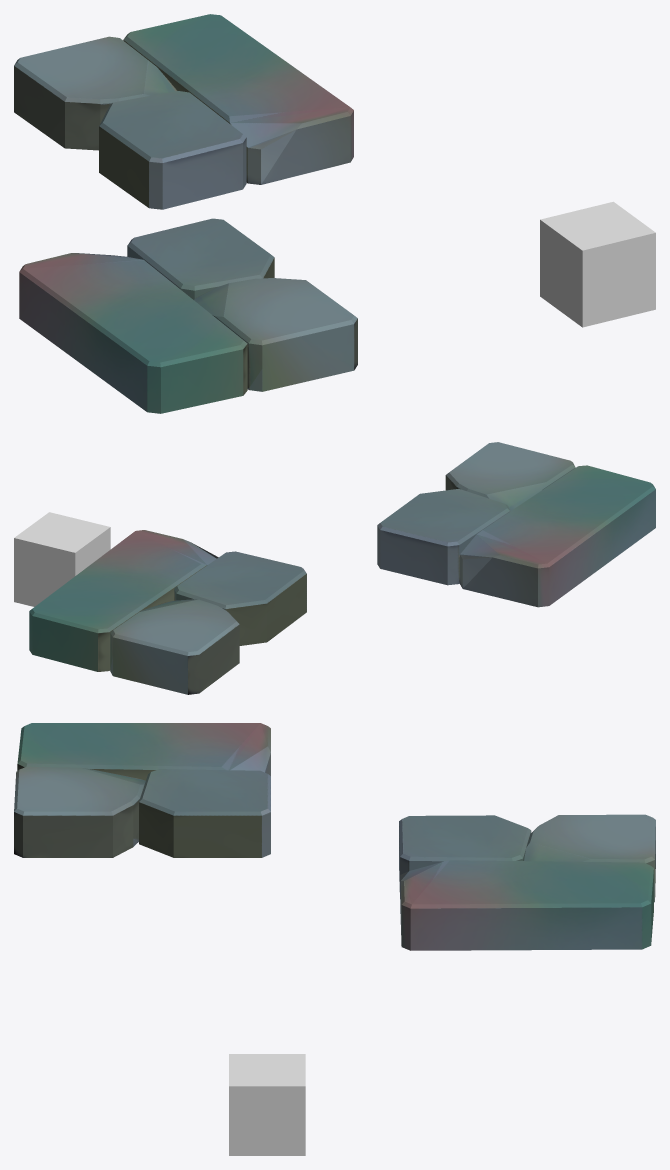
Rendered from trade-floor011.fbx.
3 renders of one model, top to bottom at view 1: azimuth 30°, elevation 25°; view 2: azimuth 150°, elevation 25°; view 3: azimuth 270°, elevation 25°, orthographic. The views are drawn at different scales.
Visible parts, largest first — view 1: Cube.035, Cube.033, trade-floor011; view 2: Cube.033, Cube.035, trade-floor011; view 3: Cube.035, Cube.033, trade-floor011.
Boxes of the visible parts, bbox=[...] form: Cube.035: bbox=[14, 14, 353, 209]; Cube.033: bbox=[19, 218, 357, 413]; trade-floor011: bbox=[540, 201, 655, 327]; Cube.033: bbox=[377, 442, 655, 607]; Cube.035: bbox=[29, 530, 306, 694]; trade-floor011: bbox=[14, 512, 110, 606]; Cube.035: bbox=[399, 814, 655, 950]; Cube.033: bbox=[14, 723, 270, 857]; trade-floor011: bbox=[229, 1054, 305, 1155].
Size of the model in its own units: 656 by 181 by 652.
